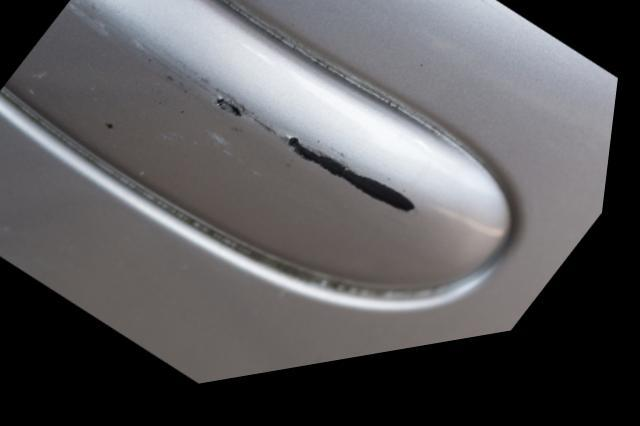scratch: (60, 0, 434, 244)
